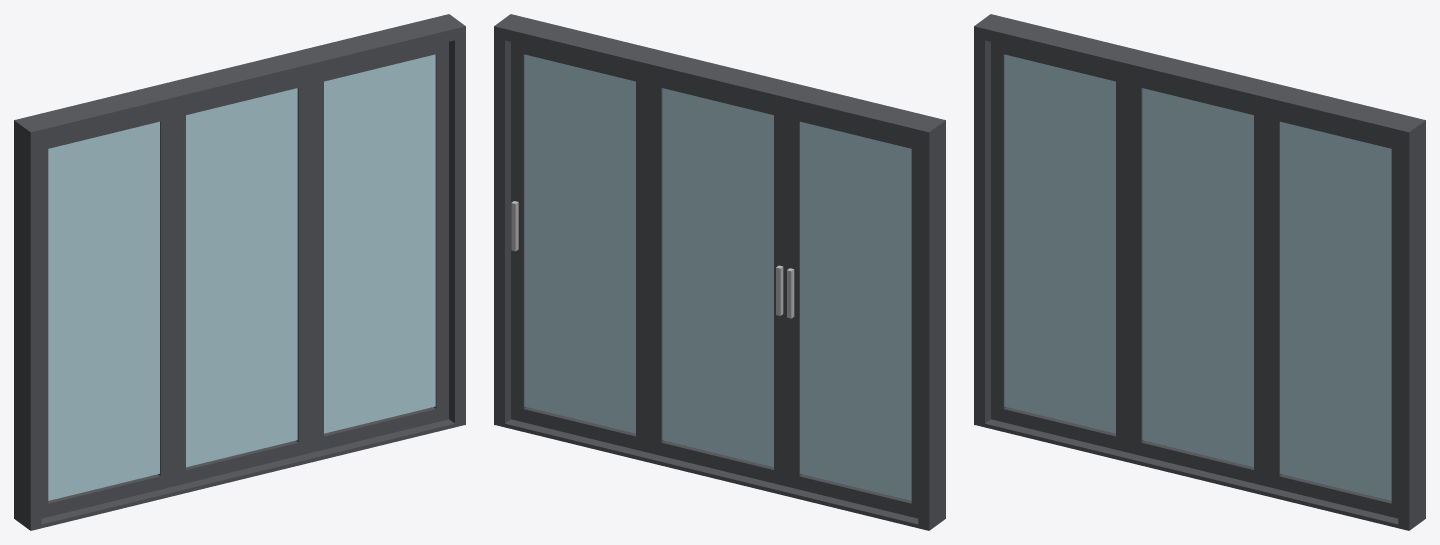
The model's file is opening.door.bifold_2400.glb.
3 renders of one model, left to right at view 1: azimuth 30°, elevation 25°; view 2: azimuth 150°, elevation 25°; view 3: azimuth 330°, elevation 25°, orthographic.
Parts seen in each view (by area): view 1: glazing__glass, leaf__plastic_grey, frame__plastic_grey; view 2: glazing__glass, leaf__plastic_grey, frame__plastic_grey, ironmongery__steel_stainless; view 3: glazing__glass, leaf__plastic_grey, frame__plastic_grey.
Part boxes in pixels (left/top/right/bottom): glazing__glass: left=48, top=54, right=435, bottom=500; leaf__plastic_grey: left=41, top=42, right=448, bottom=518; frame__plastic_grey: left=14, top=14, right=465, bottom=530; glazing__glass: left=524, top=54, right=911, bottom=500; leaf__plastic_grey: left=511, top=42, right=918, bottom=518; frame__plastic_grey: left=494, top=14, right=945, bottom=530; ironmongery__steel_stainless: left=511, top=201, right=794, bottom=318; glazing__glass: left=1004, top=54, right=1391, bottom=500; leaf__plastic_grey: left=991, top=42, right=1398, bottom=518; frame__plastic_grey: left=974, top=14, right=1425, bottom=530.
Size of the model in its own units: 2.4 by 2.1 by 0.16.
